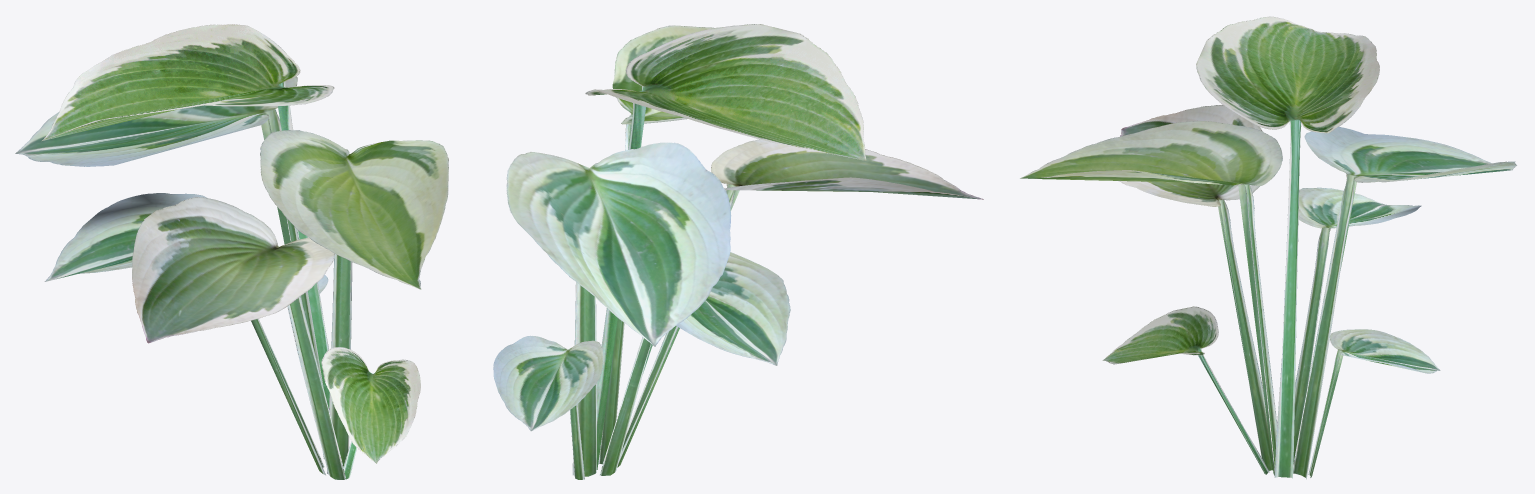
Rendered from plant_small_wg_00_line_filler_10.fbx.
The picture shows the model from 3 angles, left to right: view 1: azimuth 30°, elevation 25°; view 2: azimuth 150°, elevation 25°; view 3: azimuth 270°, elevation 25°; orthographic projection. The views are drawn at different scales.
Visible parts, largest first — view 1: plant_small_wg_00_line_filler_10; view 2: plant_small_wg_00_line_filler_10; view 3: plant_small_wg_00_line_filler_10.
Part boxes in pixels (x1=…): plant_small_wg_00_line_filler_10: x1=15, y1=24, x2=448, y2=479; plant_small_wg_00_line_filler_10: x1=493, y1=24, x2=983, y2=479; plant_small_wg_00_line_filler_10: x1=1020, y1=16, x2=1516, y2=479.
Bounding box in the file's own units: 30.4 × 37.49 × 45.92.
1 material, 1 textured.
